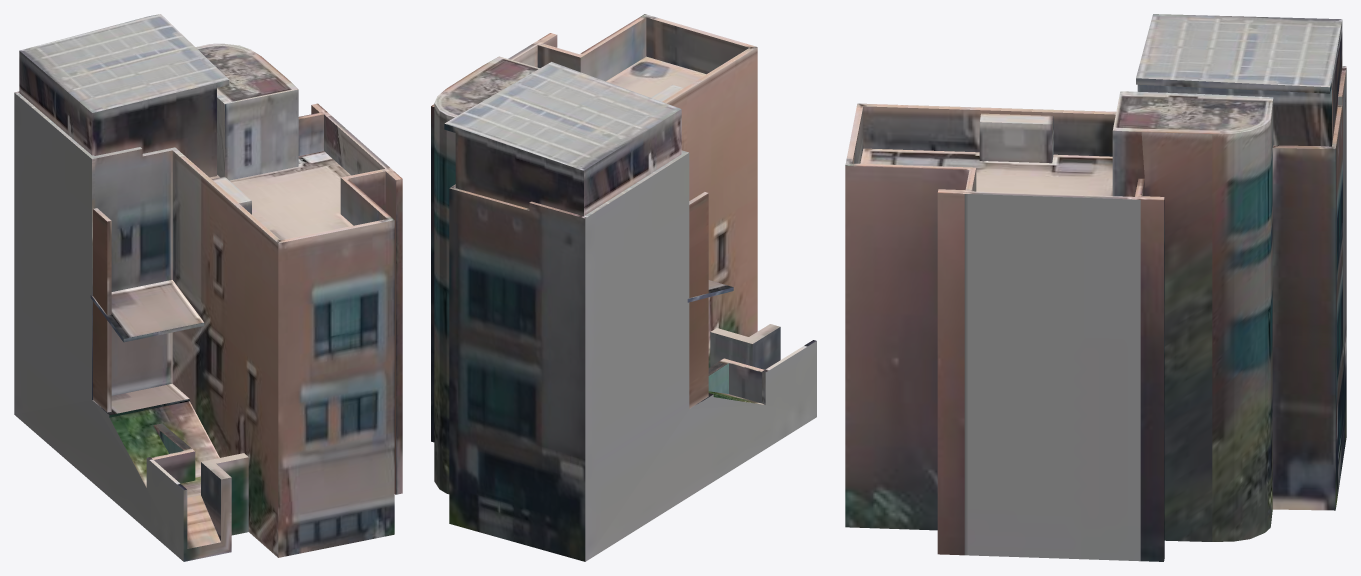
The picture shows the model from 3 angles, left to right: view 1: azimuth 30°, elevation 25°; view 2: azimuth 150°, elevation 25°; view 3: azimuth 270°, elevation 25°; orthographic projection. The views are drawn at different scales.
Parts seen in each view (by area): view 1: B280854041001063A0; view 2: B280854041001063A0; view 3: B280854041001063A0.
Part boxes in pixels (x1,y1,x2,y2): B280854041001063A0: (14,14,402,561); B280854041001063A0: (431,14,816,561); B280854041001063A0: (845,14,1346,561).
Size of the model in its own units: 8.83 by 12.65 by 13.45.
1 material, 1 textured.
